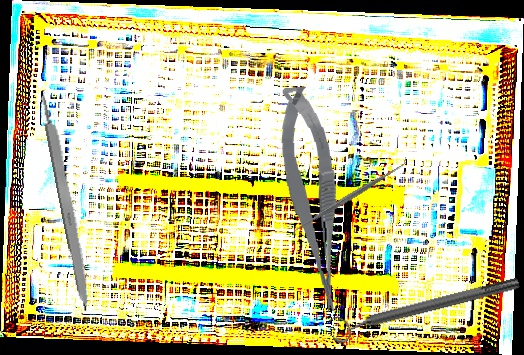Fixation Ring: (327, 268, 523, 347)
Micro Scissor: (275, 84, 347, 315)
Scalpel Handle: (38, 92, 96, 313)
Spatula Surgical: (287, 155, 413, 238)
